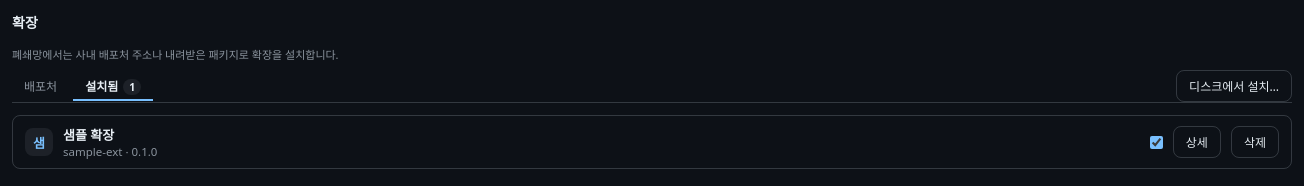
Scenario: 상세로 넘어가기 › 「상세」를 누르면 그 확장의 상세가 목록을 갈아끼운다
The image size is (1304, 186).
expect the text "샘플 확장" is shown: met, box x1=63 y1=126 x2=114 y2=144
What coordinates should you click on to do the following:
click the button "상세"
I would click on:
 (1197, 142)
Its box is x1=1173 y1=126 x2=1221 y2=158.
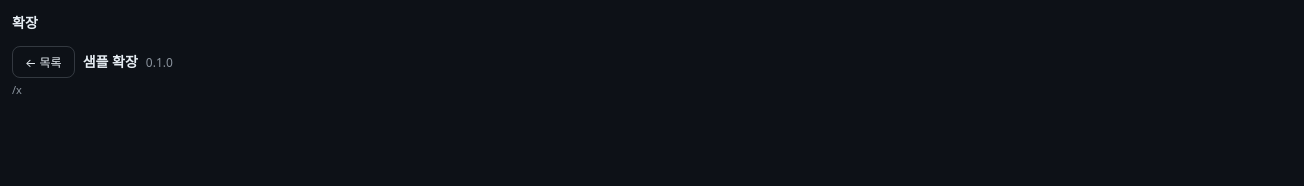
expect the button "← 목록" is shown: met, box x1=12 y1=46 x2=75 y2=78
expect the text "배포처" is gone: met
